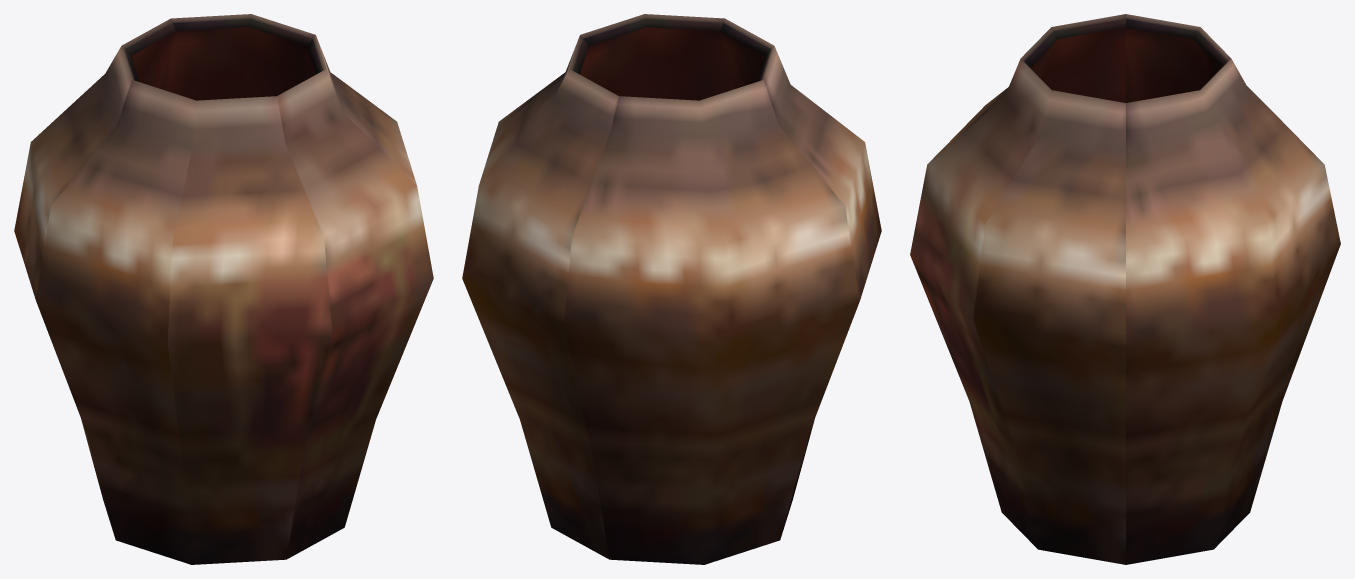
File: general_obj_jar_red02.fbx
The picture shows the model from 3 angles, left to right: view 1: azimuth 30°, elevation 25°; view 2: azimuth 150°, elevation 25°; view 3: azimuth 270°, elevation 25°; orthographic projection.
Visible parts, largest first — view 1: Object22; view 2: Object22; view 3: Object22.
Boxes of the visible parts, box(x1,y1,x2,y2) form: Object22: box(14, 14, 433, 564); Object22: box(462, 14, 881, 564); Object22: box(910, 14, 1340, 564).
Size of the model in its own units: 0.8414 by 0.976 by 0.8396.
